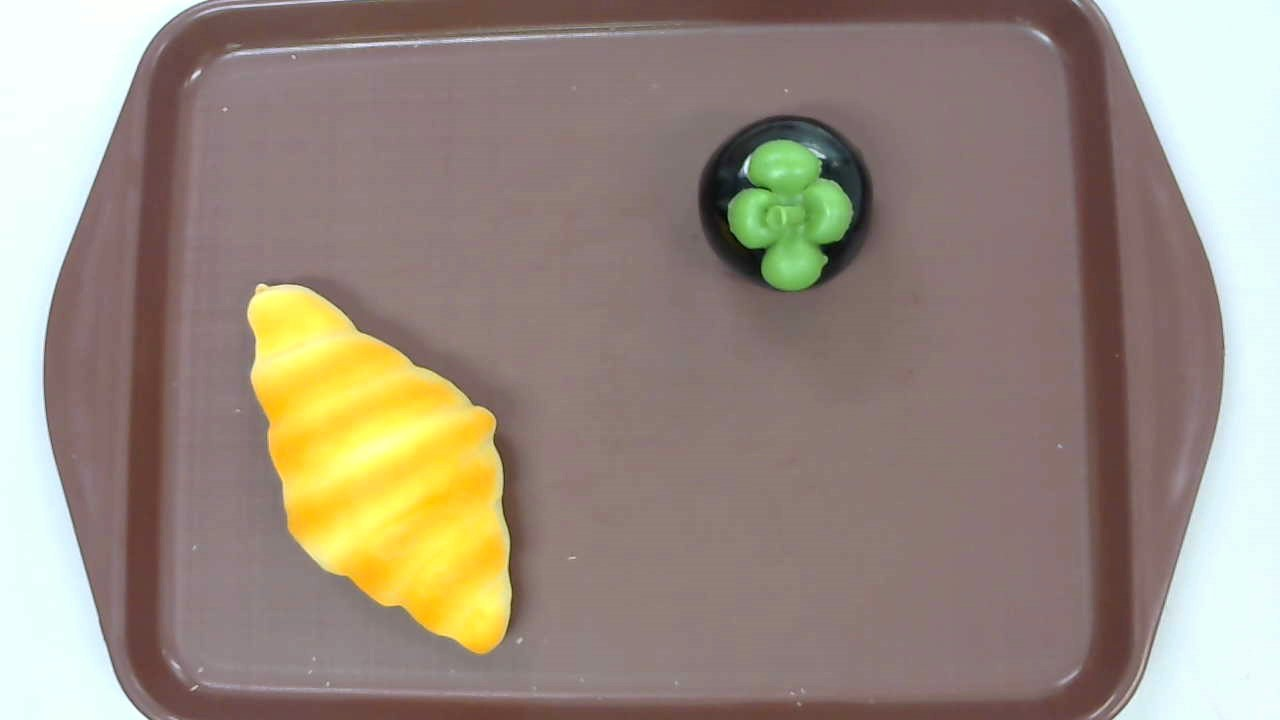croissant: (247, 281, 513, 655)
mangosteen: (697, 116, 873, 294)
